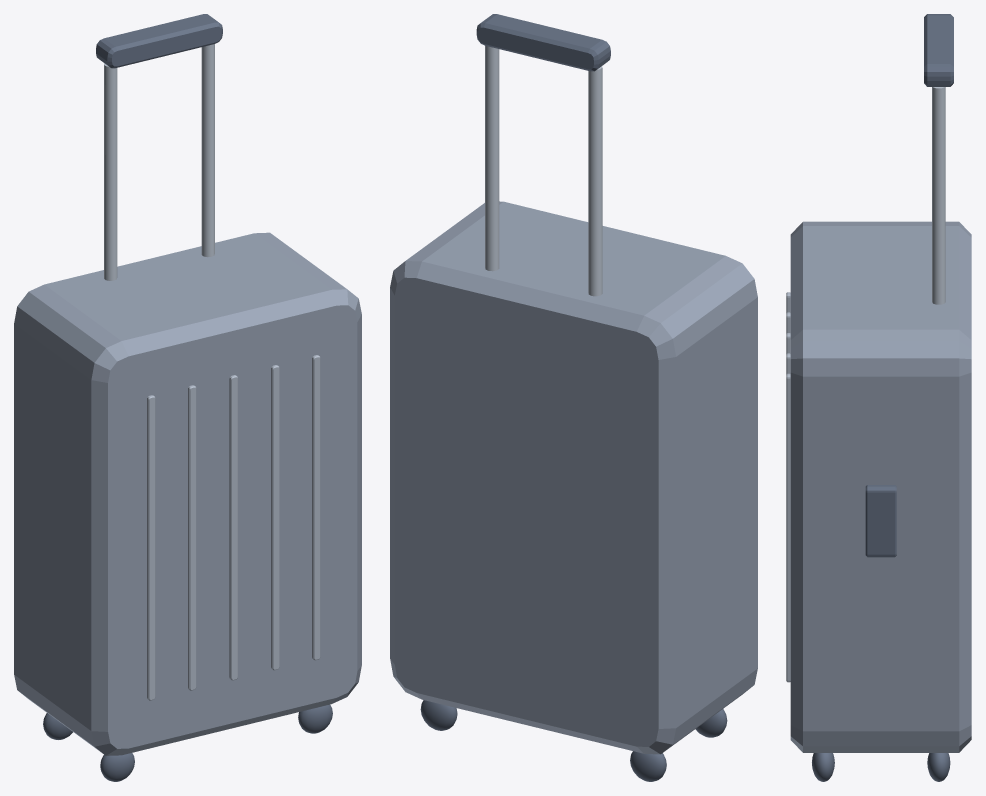
Rendered from suitcase-lite.glb.
3 views of the same model, side by side, from view 1: azimuth 30°, elevation 25°; view 2: azimuth 150°, elevation 25°; view 3: azimuth 270°, elevation 25° (orthographic). The views are drawn at different scales.
Parts seen in each view (by area): view 1: body, soft, dark, light; view 2: body, light, dark; view 3: body, dark, light, soft.
Boxes of the visible parts, x1=… form: body: x1=14, y1=232, x2=361, y2=755; soft: x1=147, y1=355, x2=320, y2=700; dark: x1=43, y1=14, x2=332, y2=781; light: x1=104, y1=44, x2=214, y2=280; body: x1=390, y1=201, x2=757, y2=754; light: x1=485, y1=45, x2=602, y2=296; dark: x1=420, y1=14, x2=727, y2=781; body: x1=790, y1=221, x2=971, y2=752; dark: x1=812, y1=14, x2=953, y2=781; light: x1=932, y1=87, x2=945, y2=304; soft: x1=786, y1=292, x2=790, y2=682.
Bounding box in the file's own units: 0.424 × 0.9915 × 0.2405.
